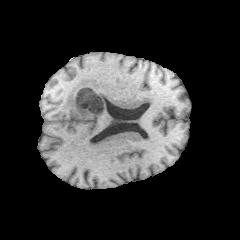glioma: (63, 79, 139, 138)
